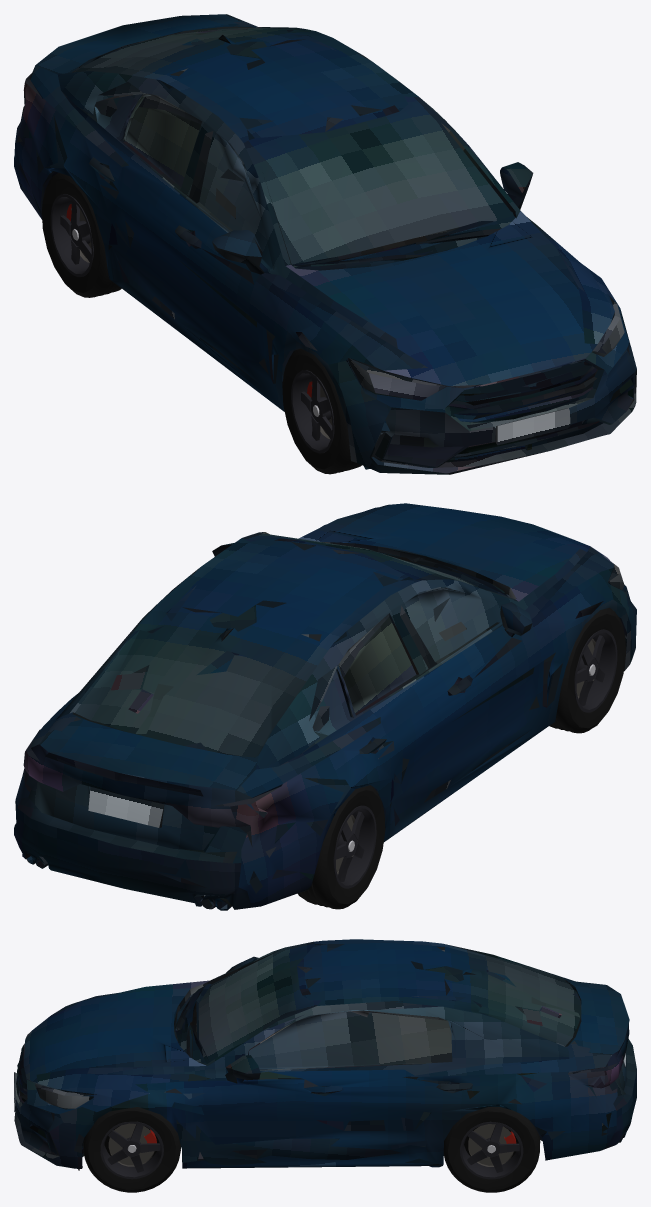
The model's file is limousine_m.glb.
3 views of the same model, one above another, from view 1: azimuth 30°, elevation 25°; view 2: azimuth 150°, elevation 25°; view 3: azimuth 270°, elevation 25° (orthographic). The views are drawn at different scales.
Visible parts, largest first — view 1: karosserie, rad_vr, rad_hr; view 2: karosserie, rad_hr, rad_vr; view 3: karosserie, rad_hl, rad_vl.
Boxes of the visible parts, x1,y1,x2,y2 form: karosserie: (14,14,636,474); rad_vr: (282,348,361,474); rad_hr: (42,172,121,297); karosserie: (14,503,636,910); rad_hr: (297,785,385,909); rad_vr: (549,608,625,733); karosserie: (14,939,636,1170); rad_hl: (443,1107,540,1192); rad_vl: (83,1107,180,1192).
Bounding box in the file's own units: 2.11 × 1.51 × 4.85.
3 materials, 1 textured.
